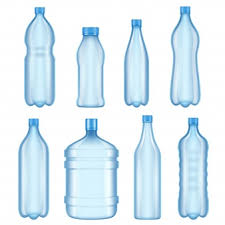available: (63, 118, 121, 222), (130, 111, 167, 223), (15, 115, 51, 224), (176, 114, 212, 220), (167, 4, 203, 109), (22, 3, 57, 110), (73, 25, 107, 113), (120, 15, 150, 110)
